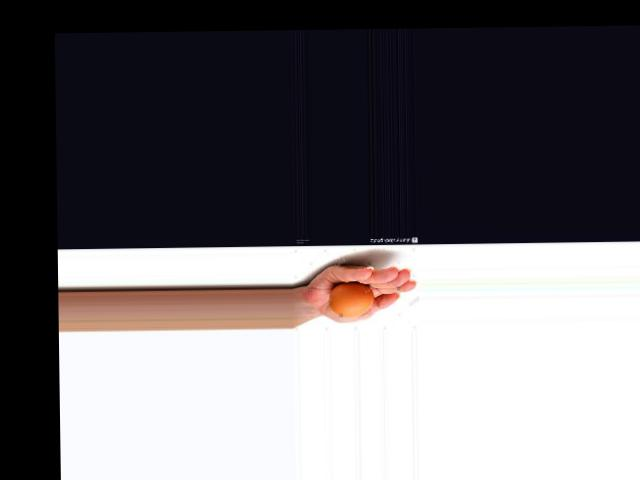egg: (328, 281, 373, 317)
